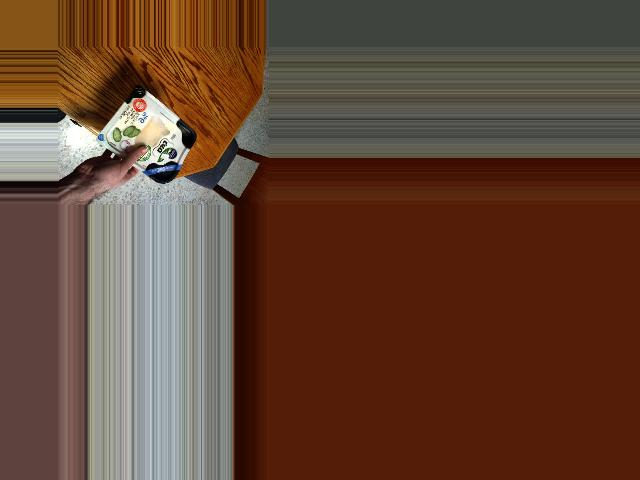cheese: (112, 93, 196, 186)
